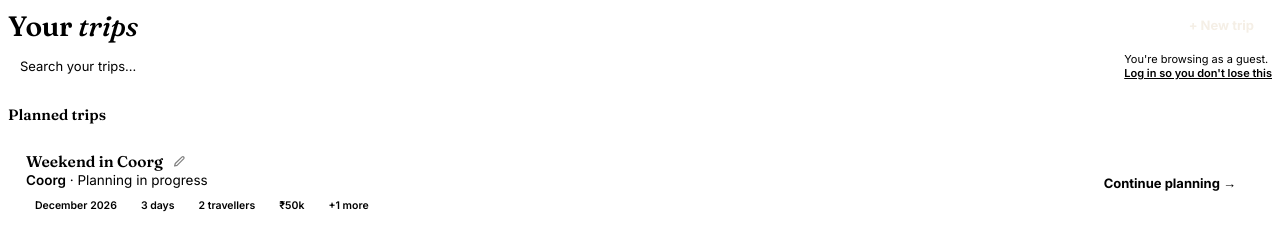
Test: DashboardHome › Plan cards › "+N more" opens the rest of the chips, and "Show less" folds them back
Expected: the heading "Planned trips" is shown, [8,105,106,124]
Expected: the text "From Delhi" is not shown
Click the button "+1 more" at (349, 206), box [320,196,378,215]
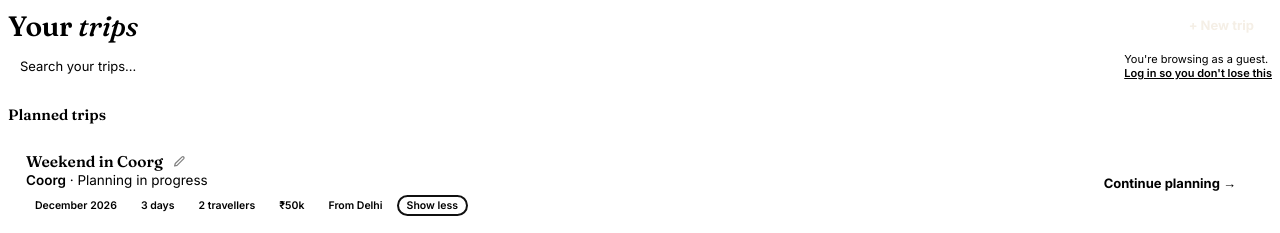
Expected: the text "From Delhi" is shown, [328,199,383,212]
Click the button "Show less" at (432, 206), box [398,196,467,215]
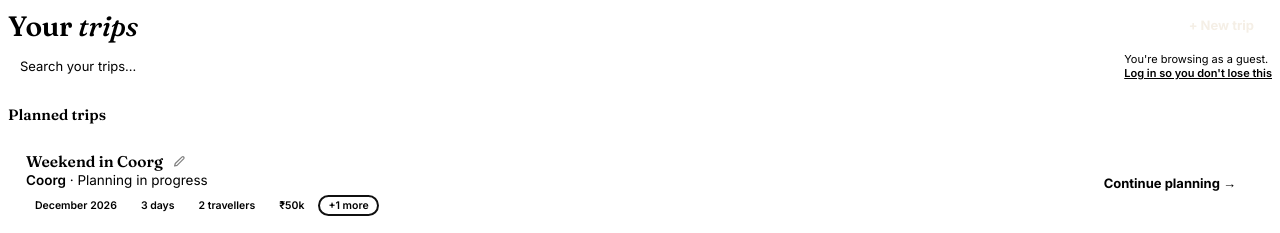
Expected: the text "From Delhi" is gone
